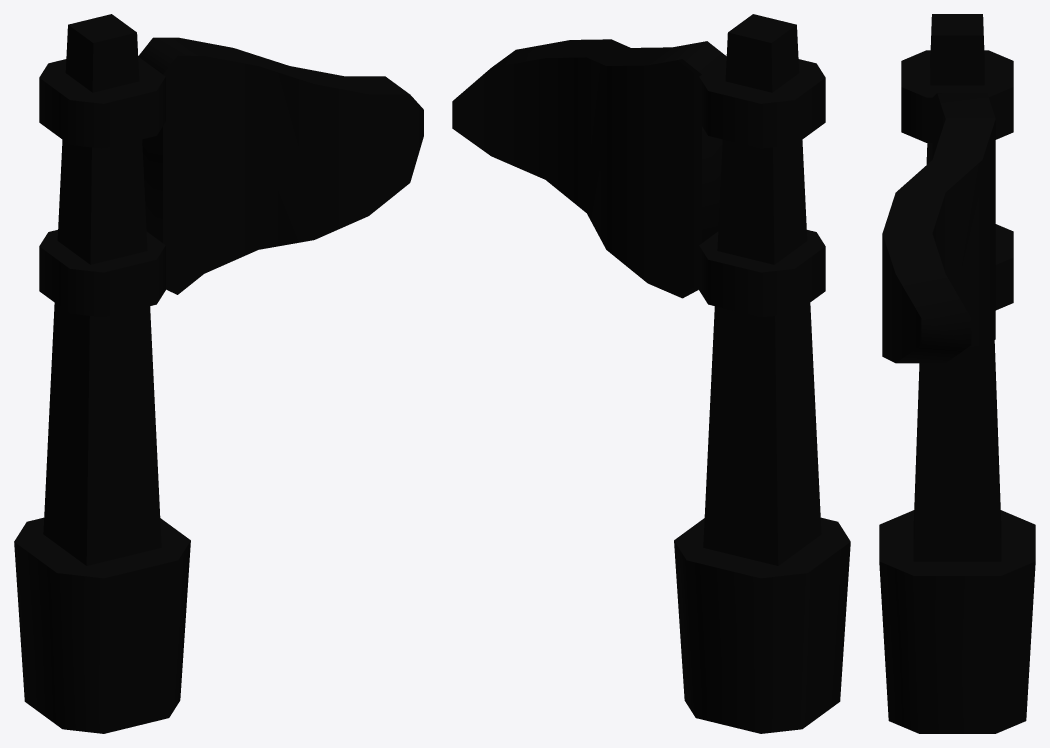
Rendered from flag.glb.
3 renders of one model, left to right at view 1: azimuth 30°, elevation 25°; view 2: azimuth 150°, elevation 25°; view 3: azimuth 270°, elevation 25°, orthographic.
Visible parts, largest first — view 1: flag; view 2: flag; view 3: flag.
Boxes of the visible parts, x1,y1,x2,y2 form: flag: [14, 14, 423, 733]; flag: [452, 14, 850, 733]; flag: [879, 14, 1035, 733].
Bounding box in the file's own units: 0.4323 × 0.75 × 0.1564.
Materials: 1 (1 with a texture image).
